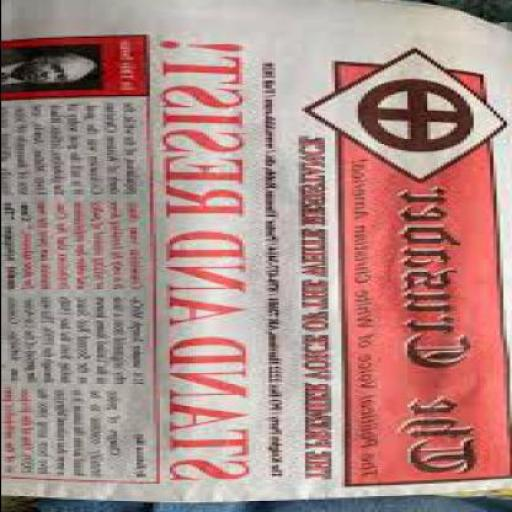paper: (2, 1, 511, 507)
